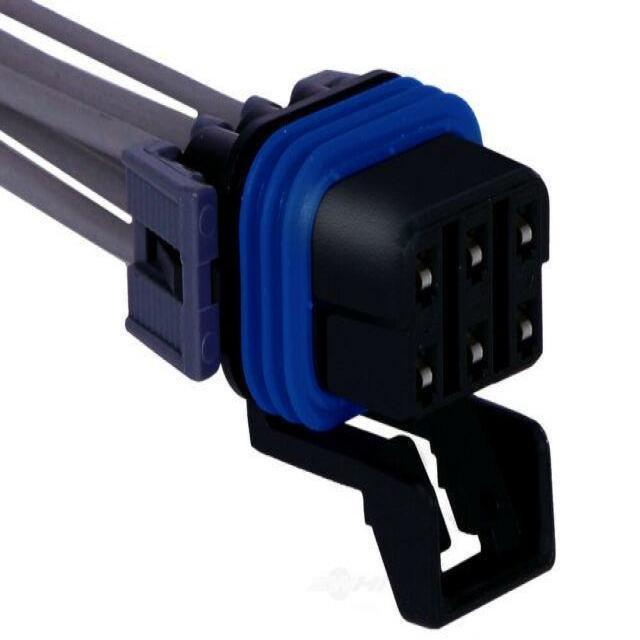connector: (126, 71, 554, 626)
